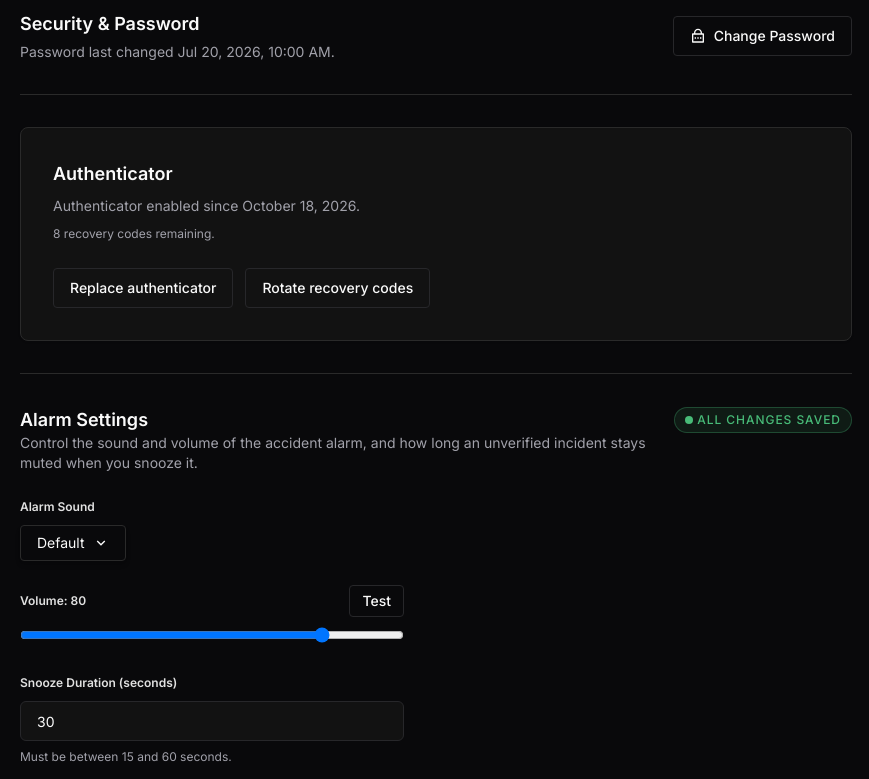
ProfileSettings Page › blocks an out-of-range snooze duration without a Retry action, since retrying can't fix an invalid value
(page scrolled)
Replace the text in the number field labelled "Snooze Duration (seconds)" with "5" at (212, 721), box 20,701 -> 404,741
Wait 1000 ms
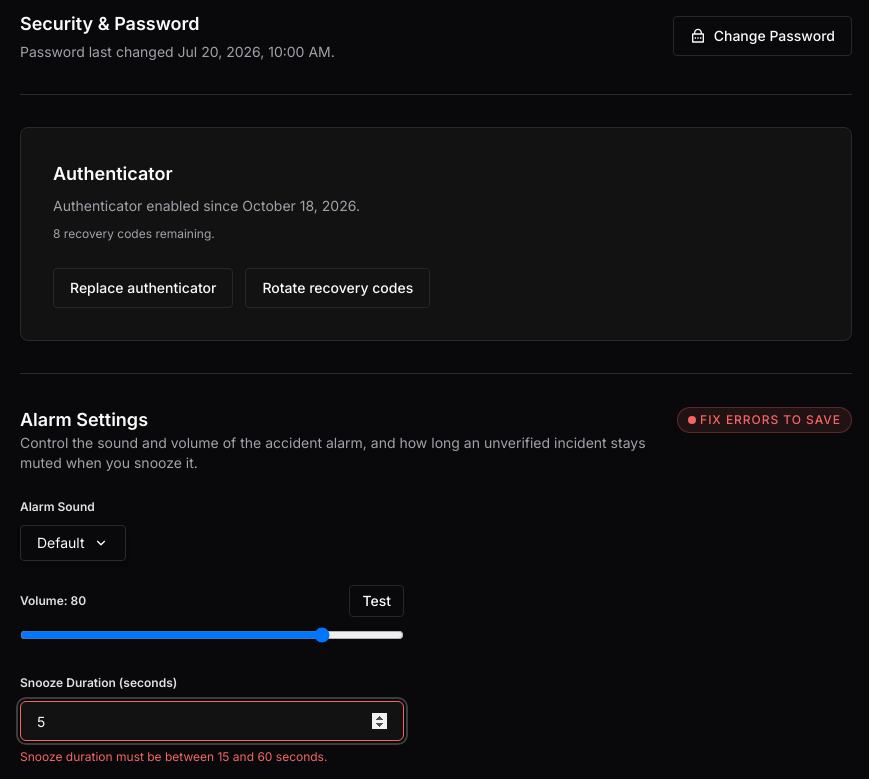
Check: the text "Fix errors to save" is shown, box 677,407 -> 852,433
